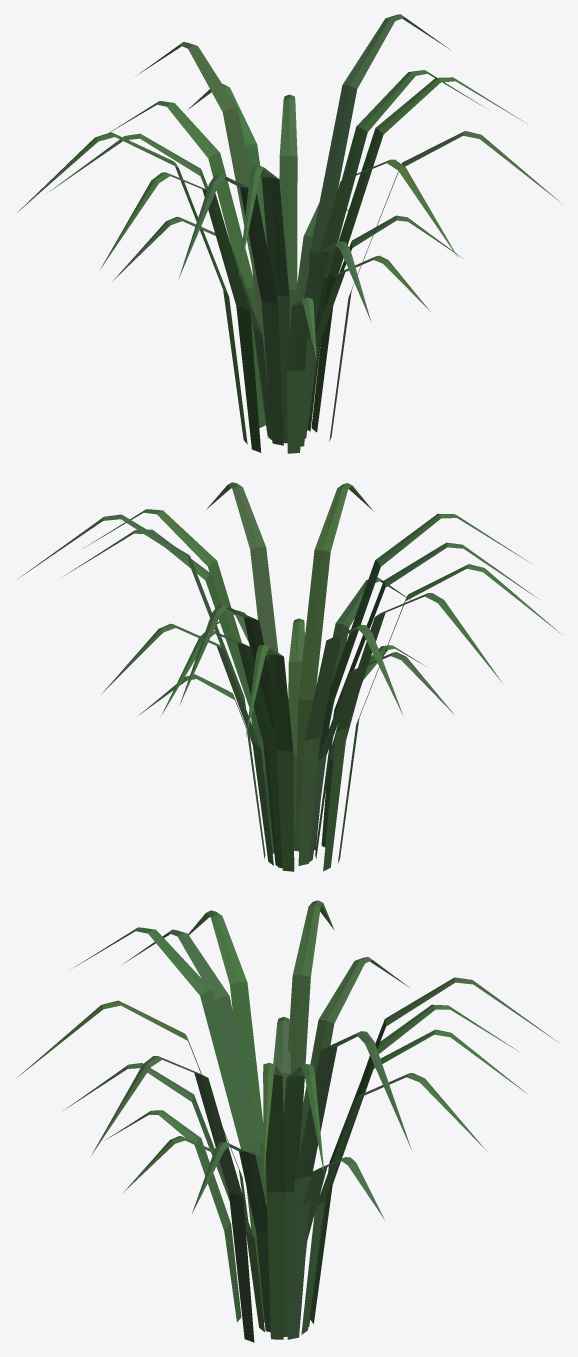
Rendered from l-grass.glb.
3 renders of one model, top to bottom at view 1: azimuth 30°, elevation 25°; view 2: azimuth 150°, elevation 25°; view 3: azimuth 270°, elevation 25°, orthographic. The views are drawn at different scales.
Visible parts, largest first — view 1: LowPolyGrass; view 2: LowPolyGrass; view 3: LowPolyGrass.
Boxes of the visible parts, x1,y1,x2,y2 form: LowPolyGrass: (17,14,561,453); LowPolyGrass: (17,482,561,871); LowPolyGrass: (16,900,558,1342).
Bounding box in the file's own units: 0.9265 × 0.65 × 0.8818.
